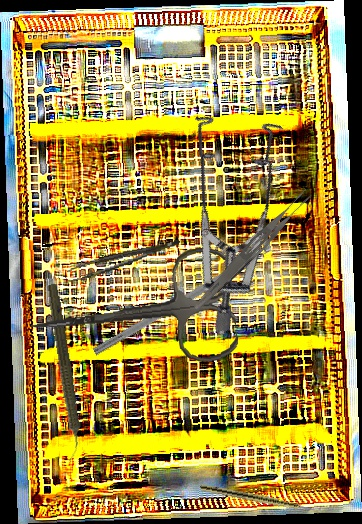Chopper: (92, 240, 288, 367)
Dressing Forceps: (191, 185, 315, 317)
Handpiece: (39, 282, 89, 463), (199, 483, 322, 516)
Iris Scissors: (25, 245, 240, 381)
Speculum: (100, 82, 345, 337)
Tissue Forceps: (63, 239, 184, 283)
